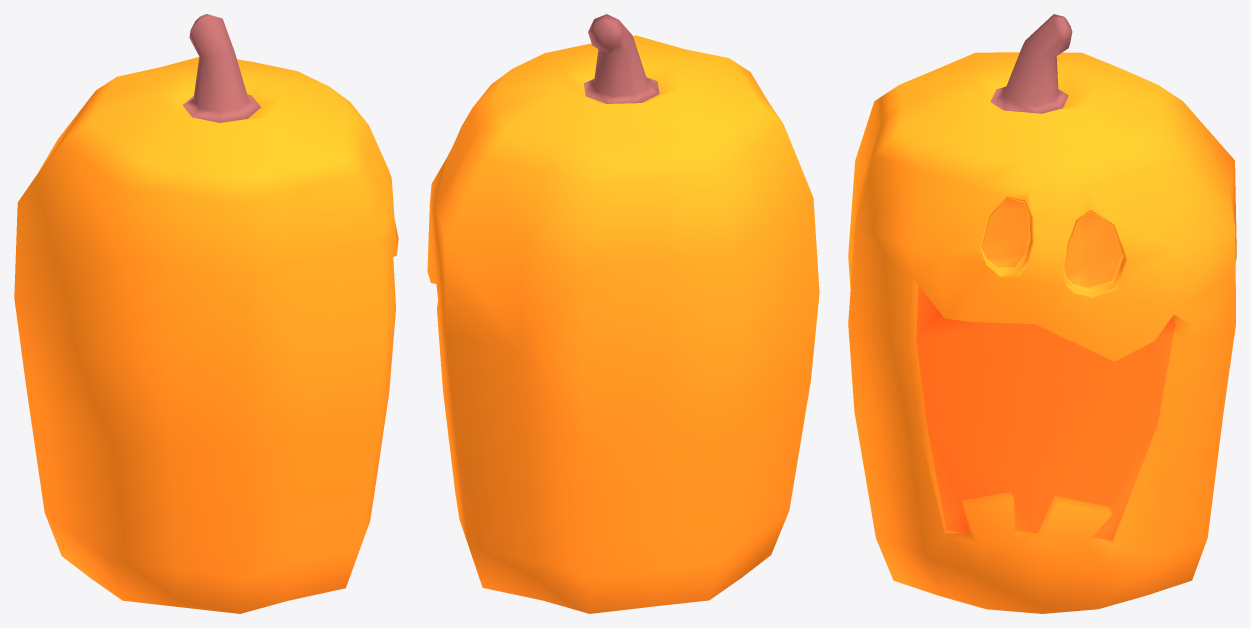
Rendered from pumpkin.glb.
The picture shows the model from 3 angles, left to right: view 1: azimuth 30°, elevation 25°; view 2: azimuth 150°, elevation 25°; view 3: azimuth 270°, elevation 25°; orthographic projection.
Visible parts, largest first — view 1: Jack-o-Lantern.03; view 2: Jack-o-Lantern.03; view 3: Jack-o-Lantern.03.
Part boxes in pixels (x1,y1,x2,y2): Jack-o-Lantern.03: [14, 14, 398, 613]; Jack-o-Lantern.03: [427, 14, 819, 613]; Jack-o-Lantern.03: [848, 14, 1236, 613].
Bounding box in the file's own units: 1.82 × 2.96 × 1.88.
2 materials, 2 textured.
